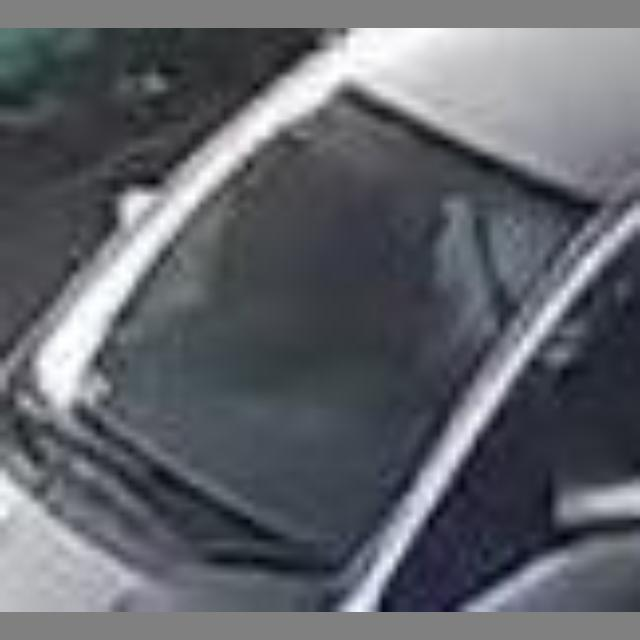pakai: (387, 170, 569, 391)
